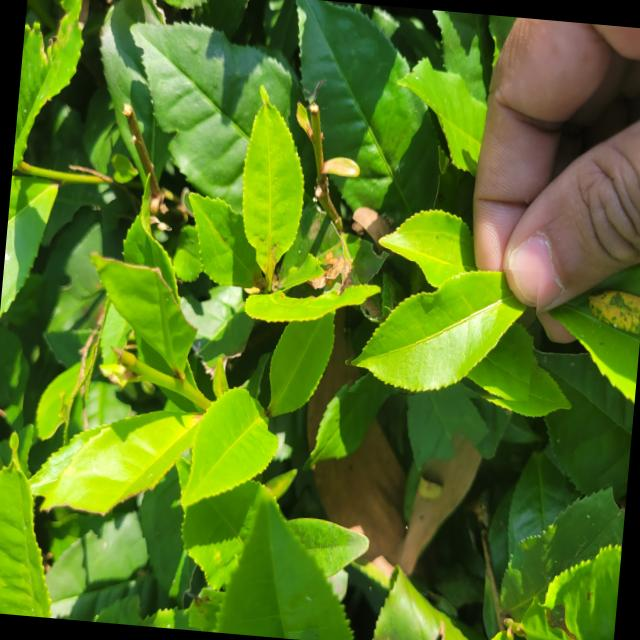Catagory A(1-2 days): (338, 255, 540, 407)
